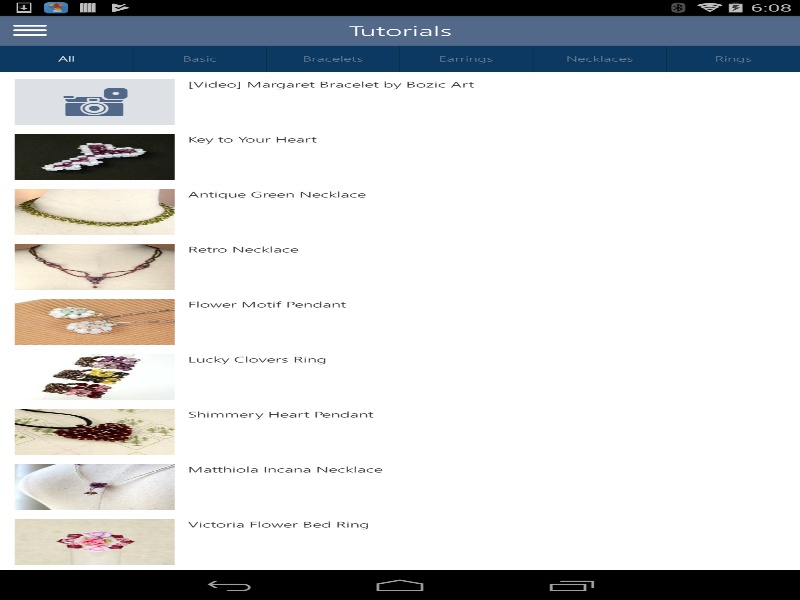Input: (14, 45, 785, 68)
